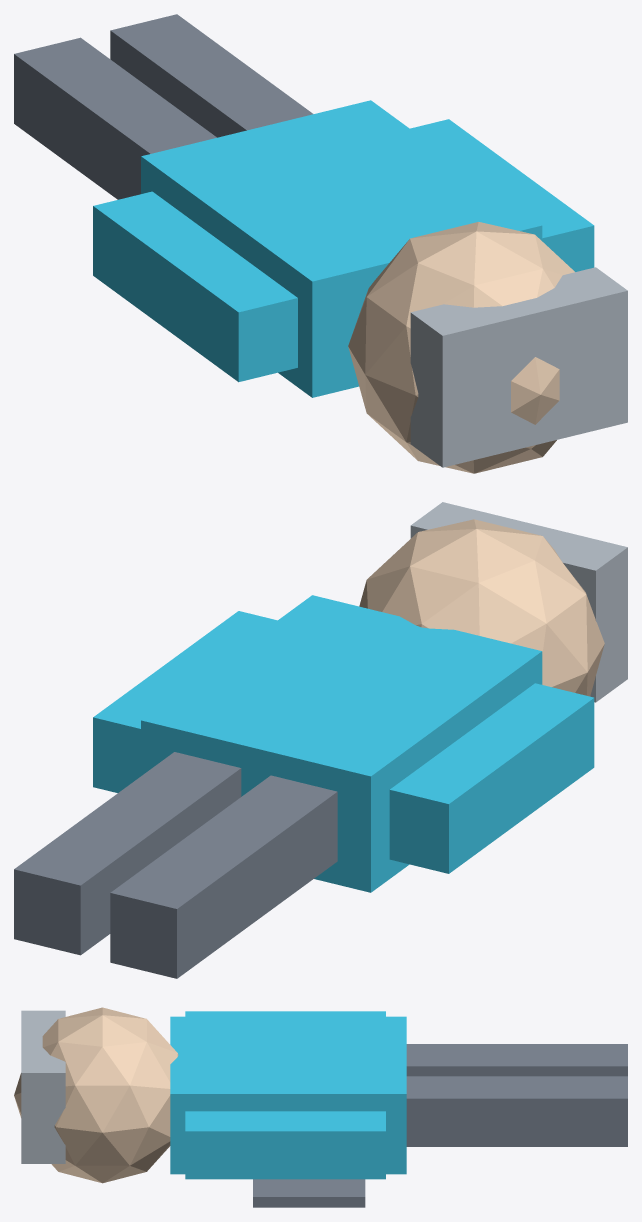
Rendered from data_ops_variant_5.glb.
The picture shows the model from 3 angles, top to bottom: view 1: azimuth 30°, elevation 25°; view 2: azimuth 150°, elevation 25°; view 3: azimuth 270°, elevation 25°; orthographic projection. The views are drawn at different scales.
Visible parts, largest first — view 1: torso_2, hair_6, head_5, arm_l_3, leg_l_0, leg_r_1, arm_r_4; view 2: torso_2, leg_l_0, head_5, arm_l_3, leg_r_1, arm_r_4, hair_6; view 3: torso_2, head_5, leg_r_1, arm_r_4, leg_l_0, hair_6, tablet_7, arm_l_3.
Boxes of the visible parts, bbox=[...] form: torso_2: bbox=[141, 100, 542, 397]; hair_6: bbox=[410, 267, 627, 467]; head_5: bbox=[348, 222, 574, 473]; arm_l_3: bbox=[93, 191, 297, 382]; leg_l_0: bbox=[14, 37, 216, 199]; leg_r_1: bbox=[110, 14, 313, 137]; arm_r_4: bbox=[410, 119, 594, 271]; torso_2: bbox=[141, 595, 542, 892]; leg_l_0: bbox=[110, 775, 337, 978]; head_5: bbox=[359, 519, 604, 696]; arm_l_3: bbox=[389, 683, 594, 873]; leg_r_1: bbox=[14, 752, 241, 955]; arm_r_4: bbox=[93, 611, 277, 792]; hair_6: bbox=[410, 502, 627, 702]; torso_2: bbox=[170, 1016, 406, 1174]; head_5: bbox=[14, 1007, 178, 1183]; leg_r_1: bbox=[406, 1076, 627, 1146]; arm_r_4: bbox=[185, 1111, 385, 1179]; leg_l_0: bbox=[406, 1044, 627, 1076]; hair_6: bbox=[21, 1010, 65, 1163]; tablet_7: bbox=[253, 1179, 365, 1207]; arm_l_3: bbox=[185, 1011, 385, 1016].
Bounding box in the file's own units: 0.96 × 0.6 × 2.08.
